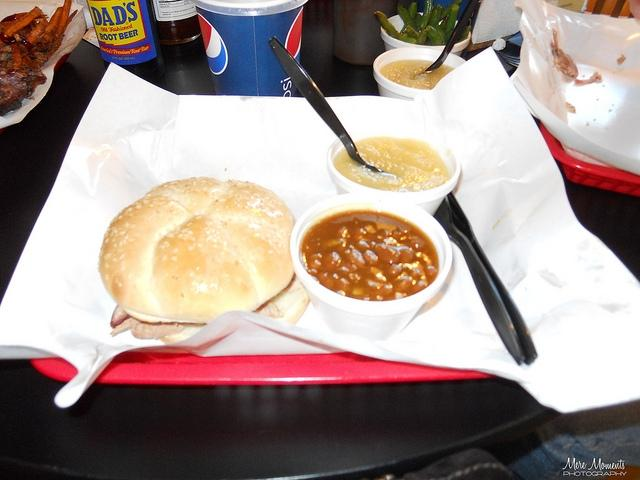green bean: (373, 11, 400, 40), (400, 0, 418, 35), (417, 0, 433, 30), (444, 4, 459, 35), (425, 25, 444, 46), (397, 3, 415, 24), (427, 5, 444, 26), (434, 23, 446, 46), (416, 29, 428, 44), (458, 25, 468, 40)
